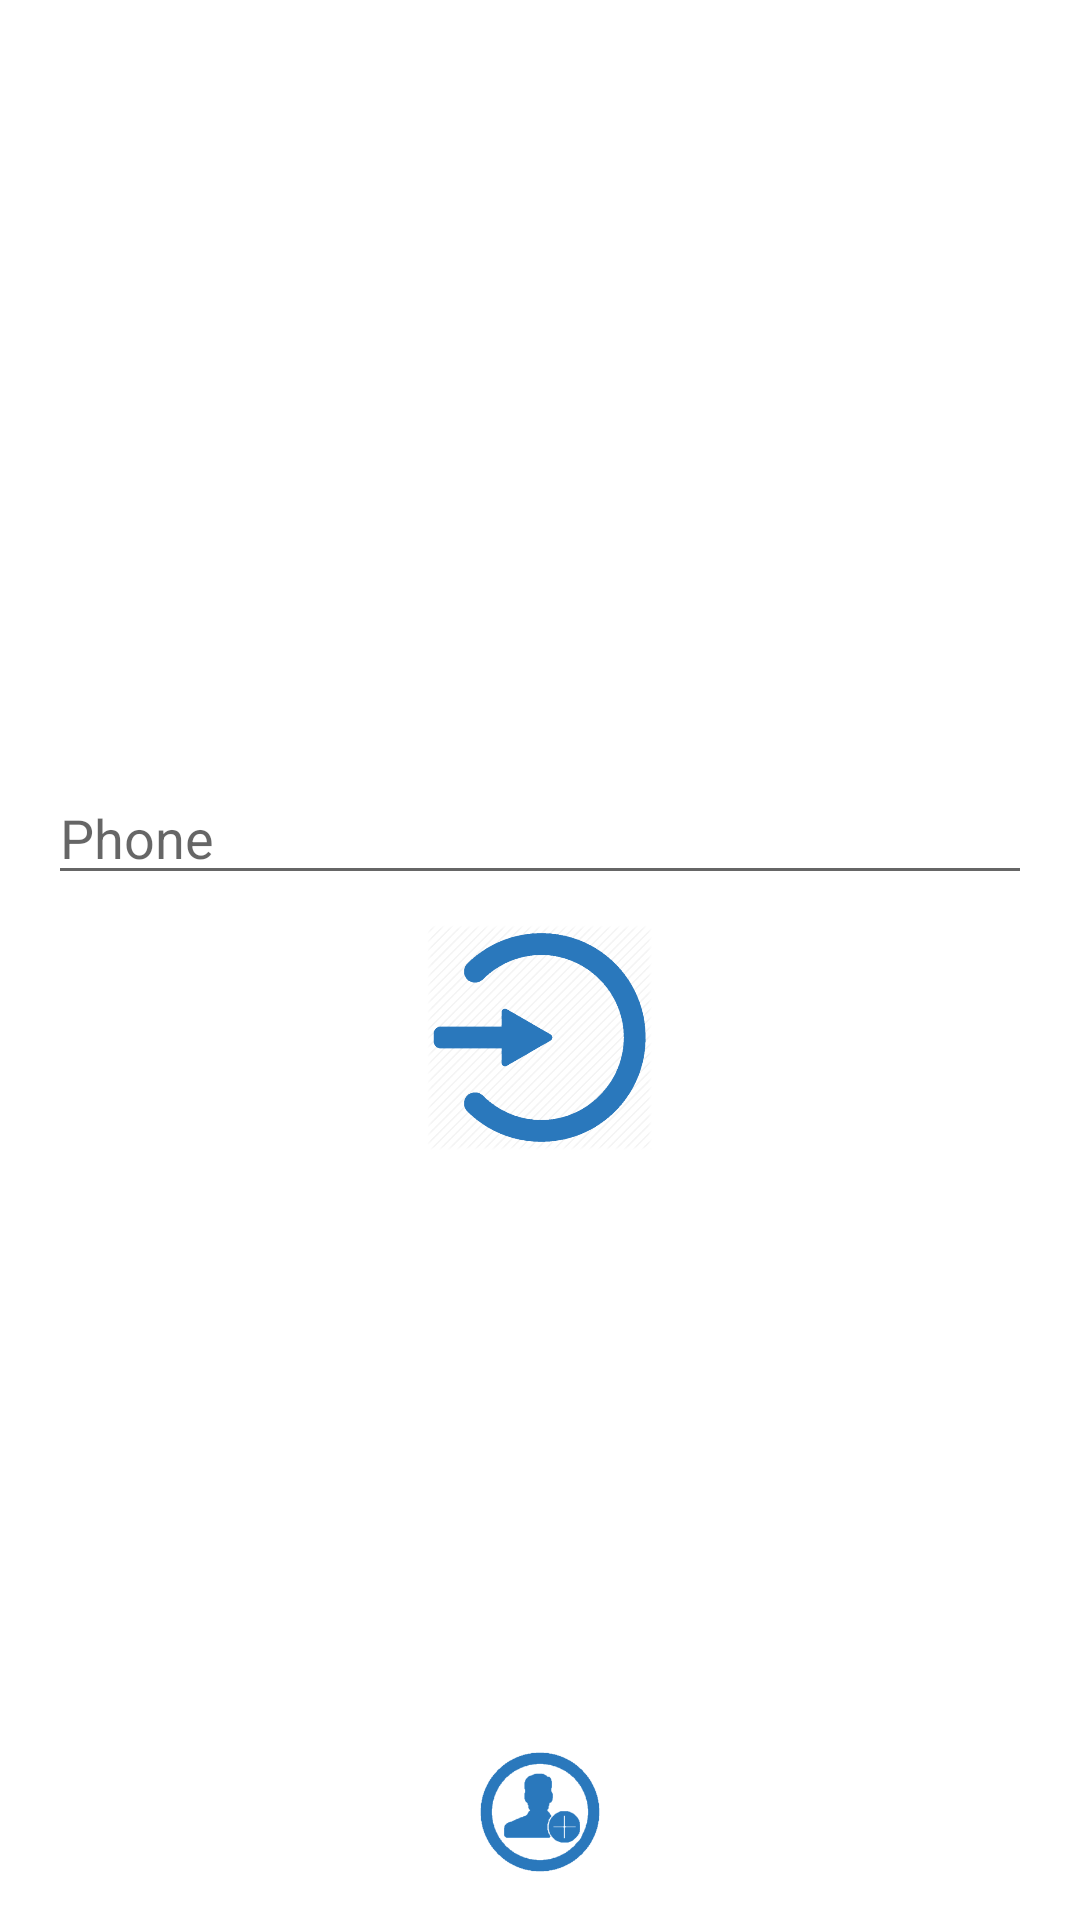

Screen size 1080x1920. Icon name, then its center in pixels as [x,y]:
login: [539,1037]
signup: [540,1812]
